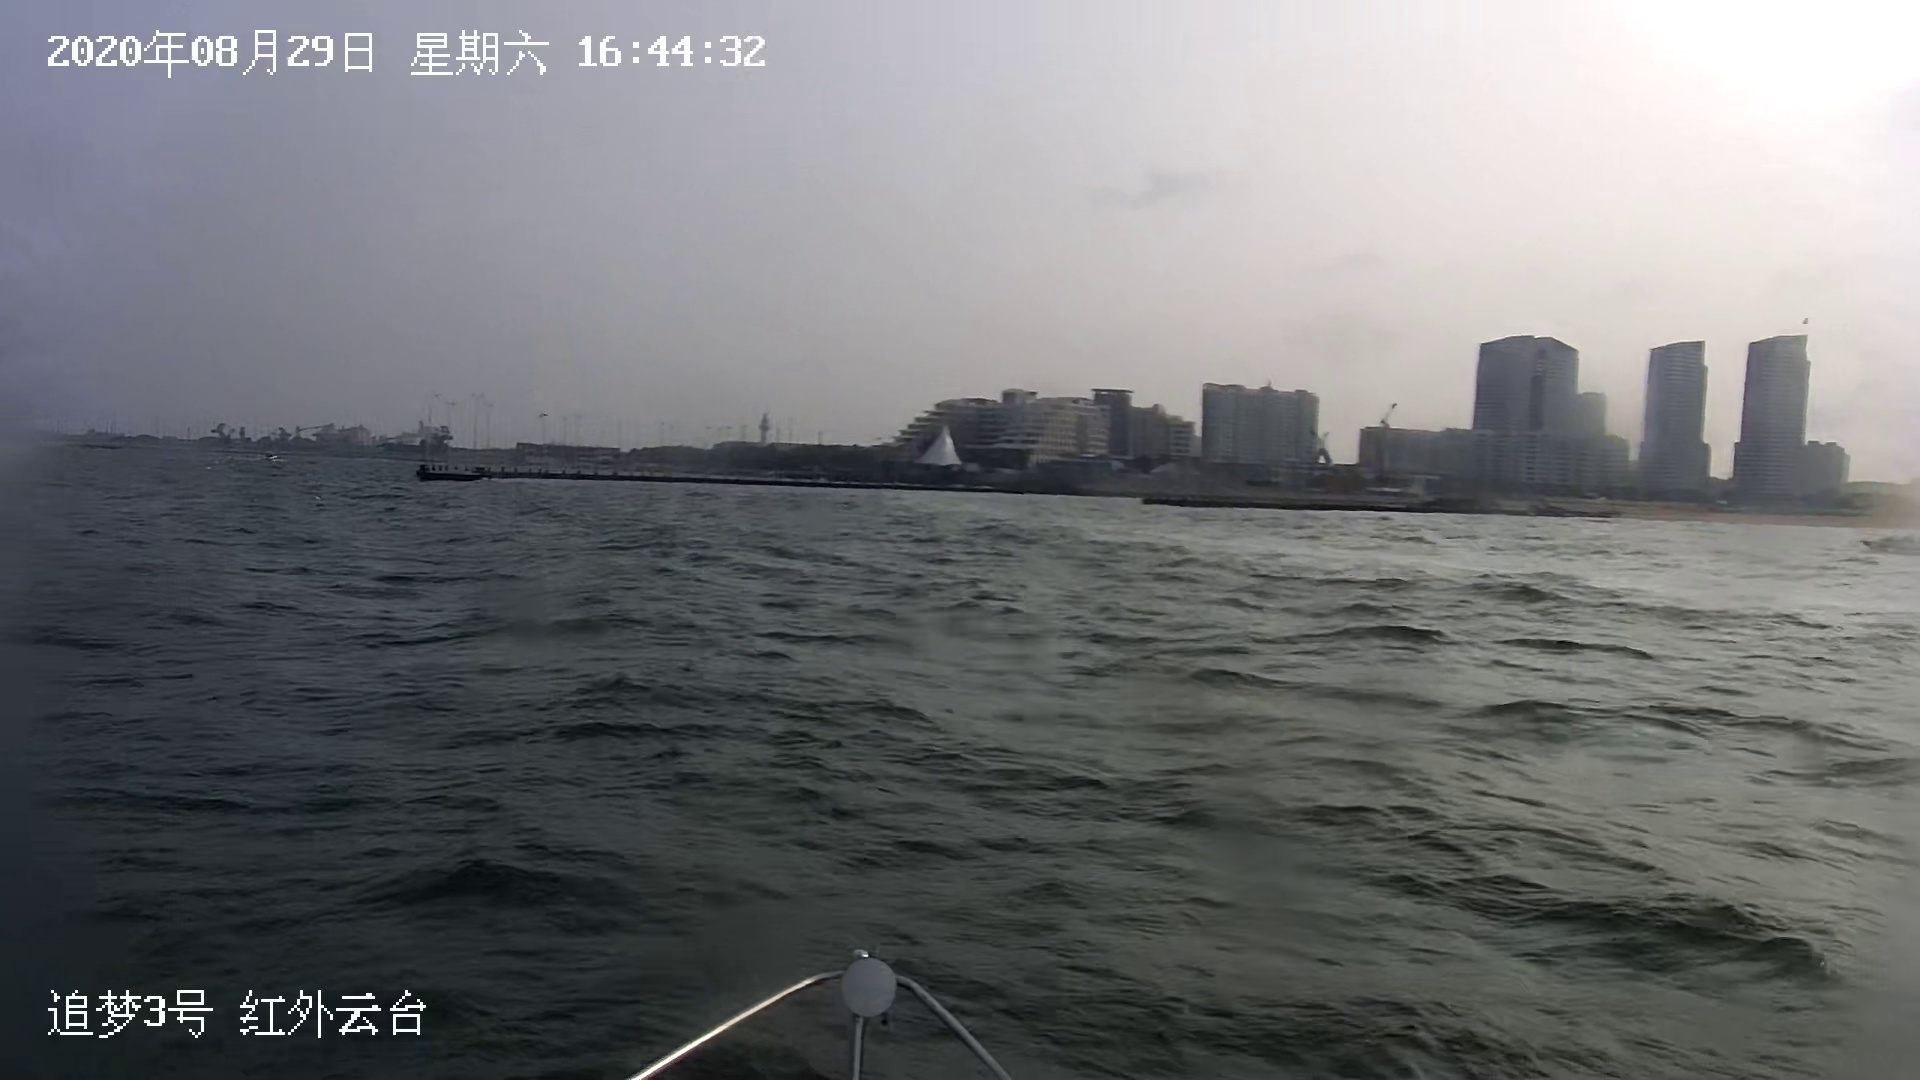coast: (38, 335, 1920, 535)
